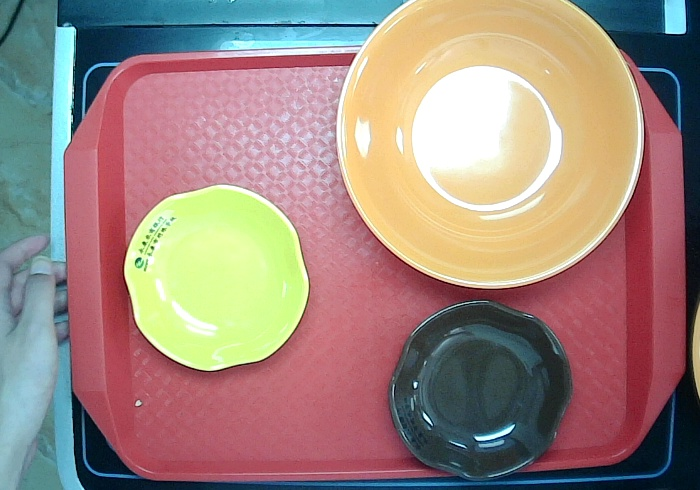YKMZ-Huang_Se_Ao_Bian_Wan: (122, 182, 311, 373)
YKMZ-Ju_Se_Tang_Wan: (334, 1, 647, 291)
YKMZ-Ka_Fei_Ao_Bian_Wan: (386, 297, 575, 482)
